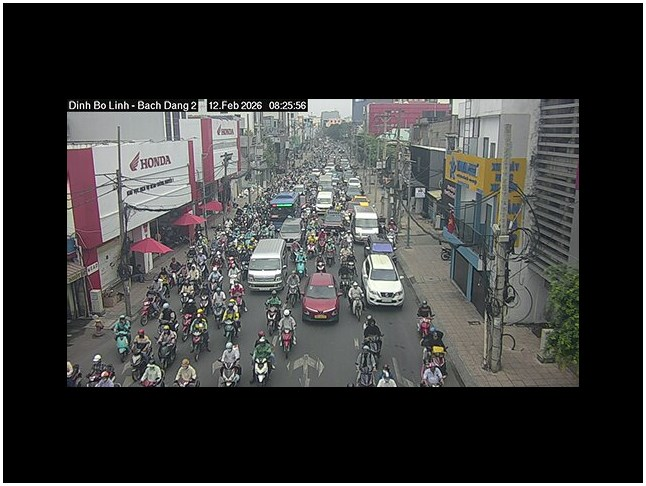car: (361, 253, 405, 307), (300, 272, 340, 323), (246, 238, 288, 286)
